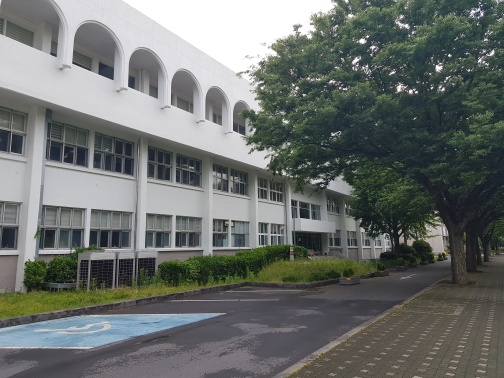Main Building of University: (9, 3, 394, 264), (45, 115, 207, 264), (71, 18, 231, 137), (284, 187, 338, 260)
